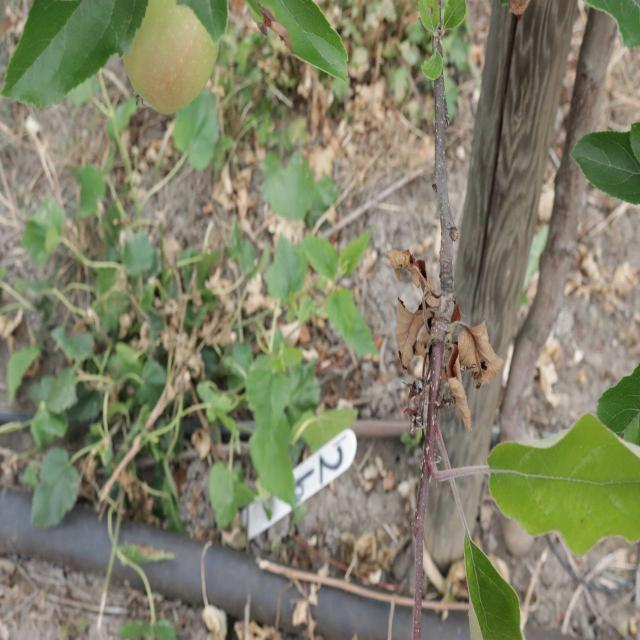-FireBlight-: (448, 310, 498, 432), (390, 246, 446, 300), (396, 300, 424, 370)
